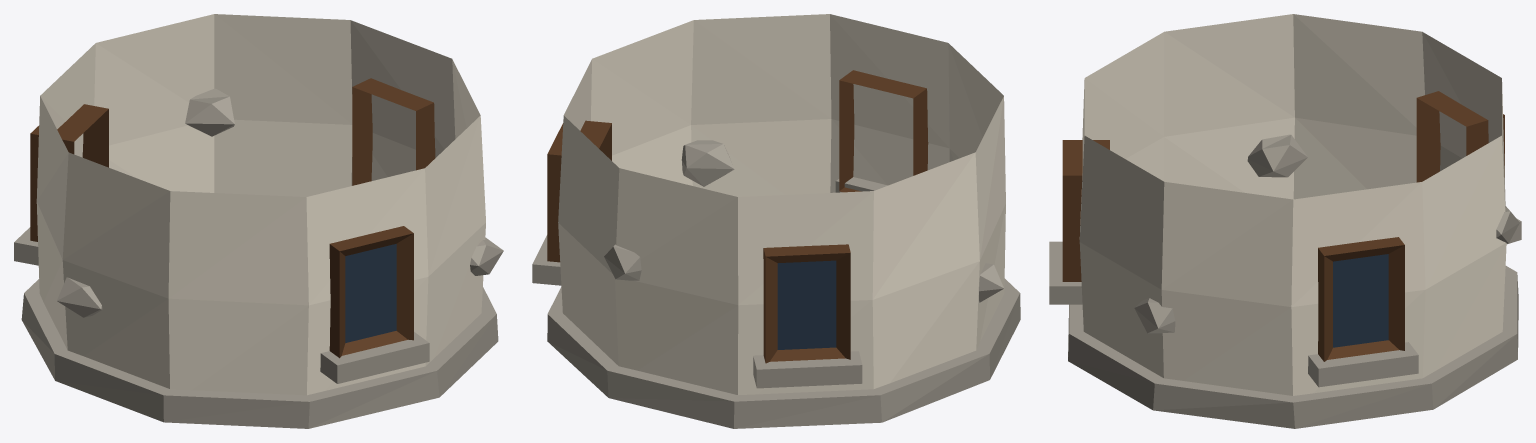
Rendered from roundtower_floor_a.glb.
3 renders of one model, left to right at view 1: azimuth 30°, elevation 25°; view 2: azimuth 150°, elevation 25°; view 3: azimuth 270°, elevation 25°, orthographic.
Visible parts, largest first — view 1: roundtower_floor_a; view 2: roundtower_floor_a; view 3: roundtower_floor_a.
Boxes of the visible parts, x1,y1,x2,y2 form: roundtower_floor_a: (14, 14, 503, 428); roundtower_floor_a: (532, 14, 1020, 428); roundtower_floor_a: (1049, 14, 1521, 428).
Size of the model in its own units: 0.671 by 0.336 by 0.6453.
